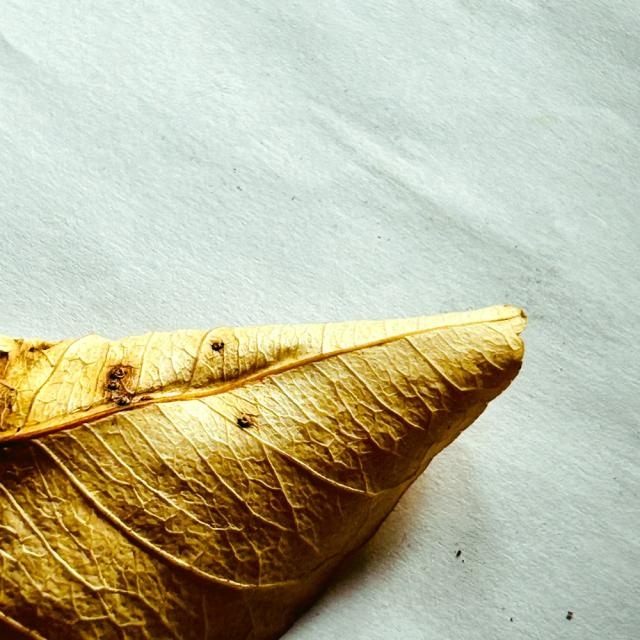DryLeaf_Lemon: (0, 305, 527, 639)
